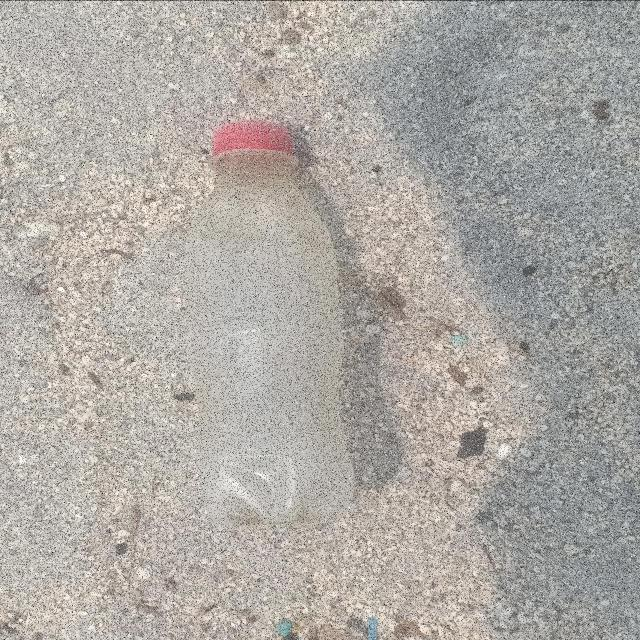plastic_waste: (185, 120, 358, 530)
